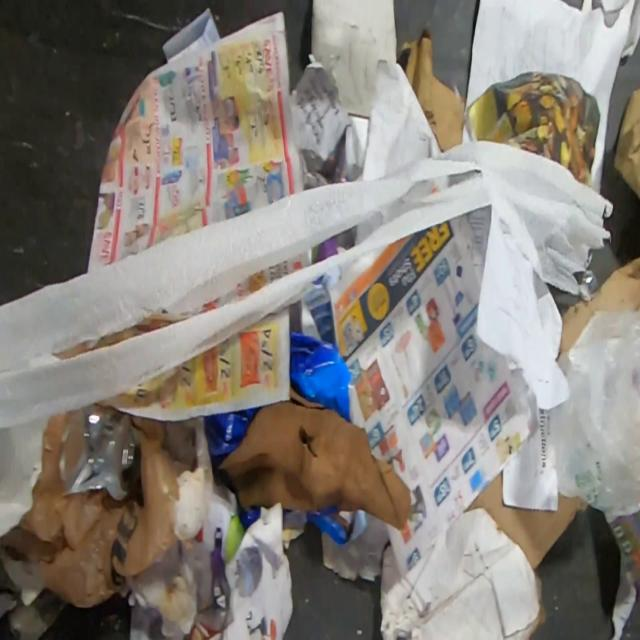cardboard: (216, 384, 412, 531), (378, 508, 547, 640), (463, 468, 590, 571), (558, 257, 640, 353), (400, 35, 466, 154), (612, 86, 640, 199)
metal: (56, 406, 136, 500)
rigid_plastic: (204, 407, 262, 455)
soft_plastic: (19, 401, 184, 609), (290, 329, 352, 420), (239, 506, 260, 531)
